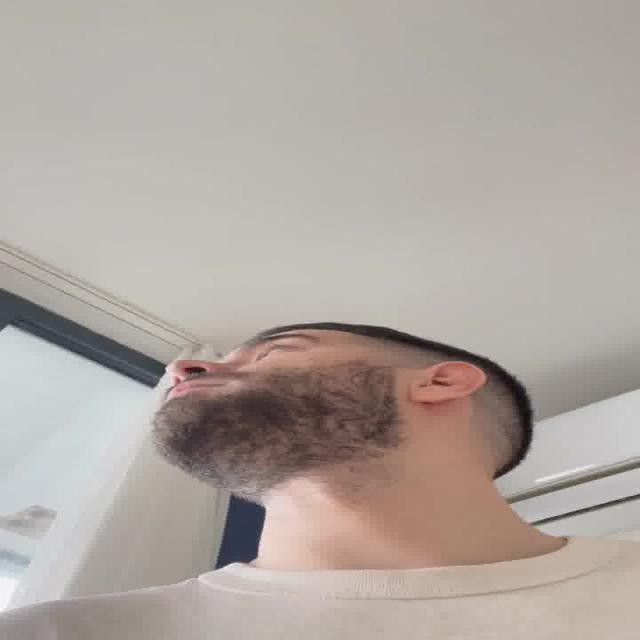earlobe: (414, 384, 449, 403)
eye: (245, 344, 303, 358)
nose: (163, 373, 217, 385)
wholeear: (414, 360, 486, 402)
